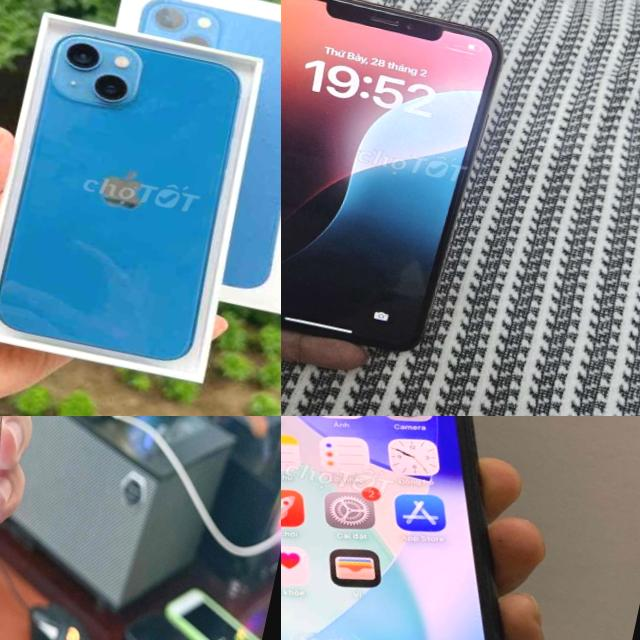gen_11: (281, 416, 613, 640)
gen_12_13: (0, 24, 265, 378)
gen_17: (0, 416, 118, 640)
gen_x_xs: (281, 0, 528, 382)
